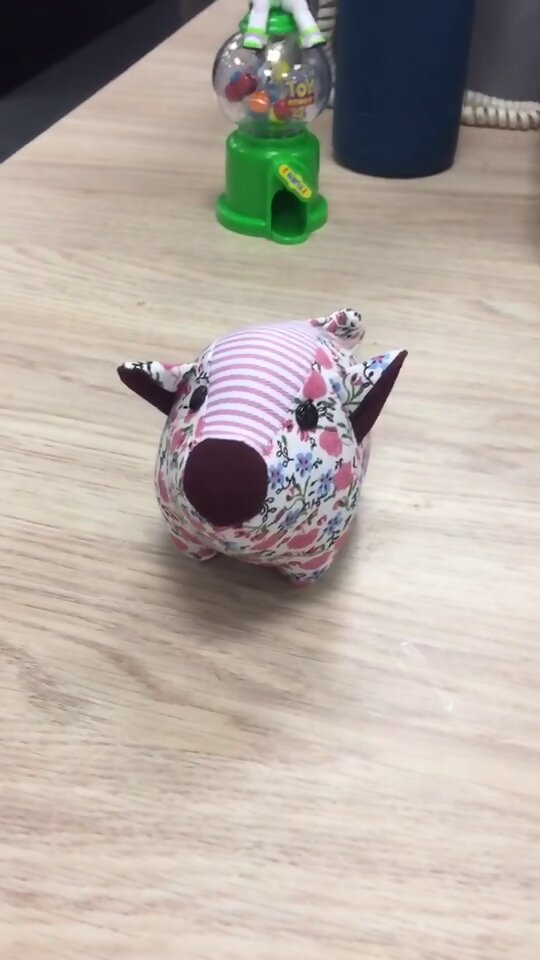pig: (116, 304, 410, 591)
